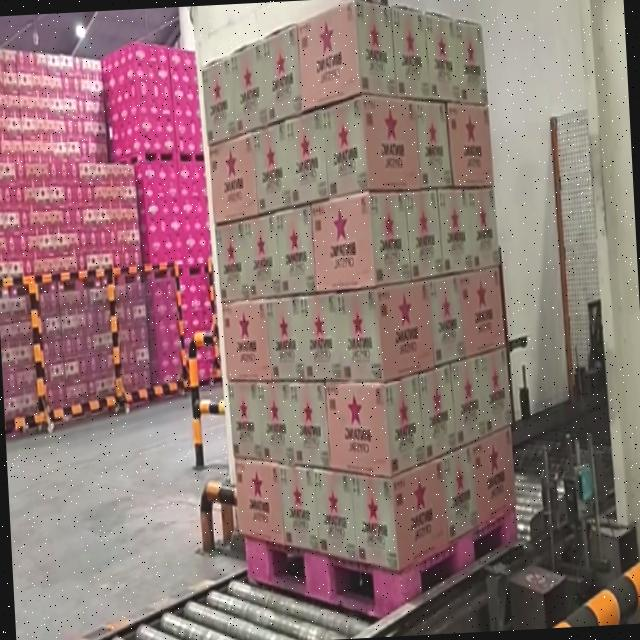pallet: (191, 0, 547, 631)
